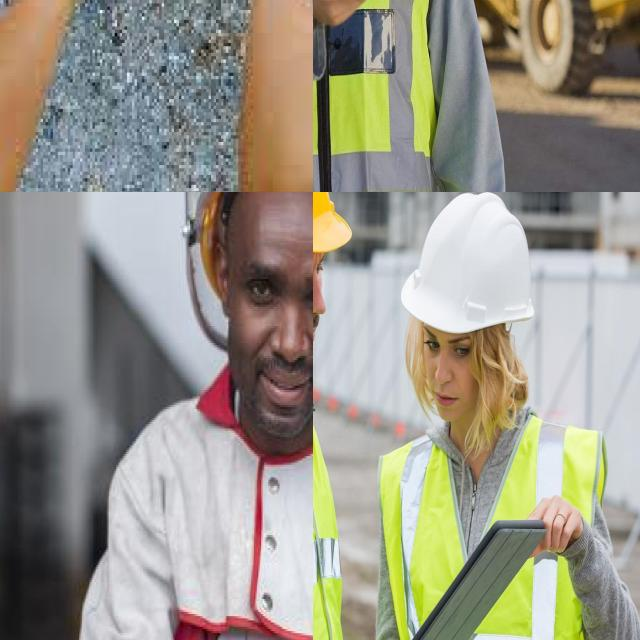No_Ear-Protection: (214, 248, 233, 317)
No_Glasses: (229, 254, 313, 324), (417, 331, 481, 363), (313, 249, 330, 295)
face_nomask: (229, 304, 313, 453), (423, 322, 486, 428), (313, 239, 333, 370)
hand_noglove: (526, 486, 592, 563), (313, 0, 380, 31)
head_helmet: (399, 192, 536, 335)
person: (378, 203, 640, 640), (313, 0, 498, 192)
vest: (376, 416, 613, 640), (313, 0, 466, 192)
